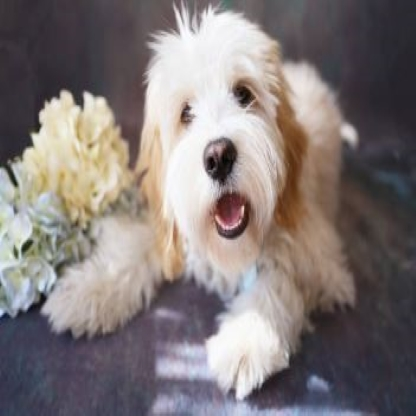maltese: (37, 6, 361, 399)
